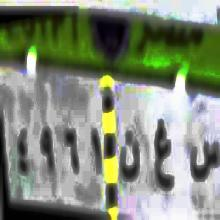1: (88, 123, 104, 182)
4: (15, 123, 30, 184)
6: (64, 120, 80, 182)
9: (39, 124, 55, 182)
ghayn: (149, 113, 175, 197)
noon: (119, 124, 142, 198)
seen: (188, 128, 220, 194)
